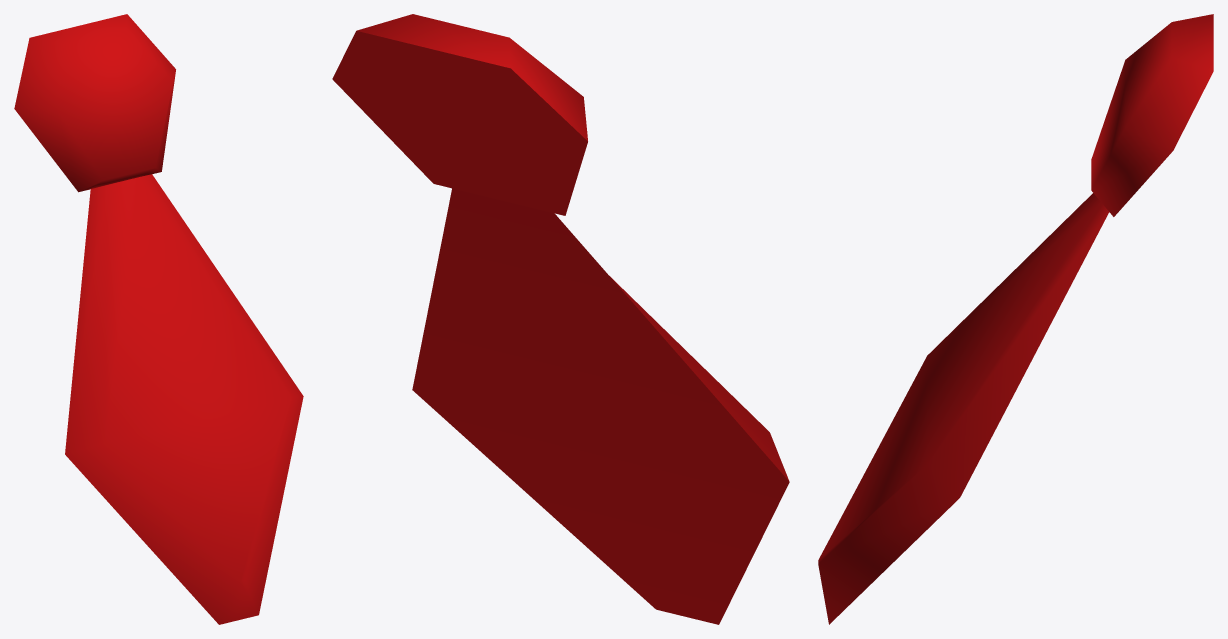
File: necktie_2.fbx
3 renders of one model, left to right at view 1: azimuth 30°, elevation 25°; view 2: azimuth 150°, elevation 25°; view 3: azimuth 270°, elevation 25°, orthographic. The views are drawn at different scales.
Parts seen in each view (by area): view 1: necktie_2; view 2: necktie_2; view 3: necktie_2.
Boxes of the visible parts, x1,y1,x2,y2 form: necktie_2: (14,14,303,624); necktie_2: (332,14,789,624); necktie_2: (818,14,1213,624).
Size of the model in its own units: 22.03 by 42.24 by 26.41.
1 material, 1 textured.
